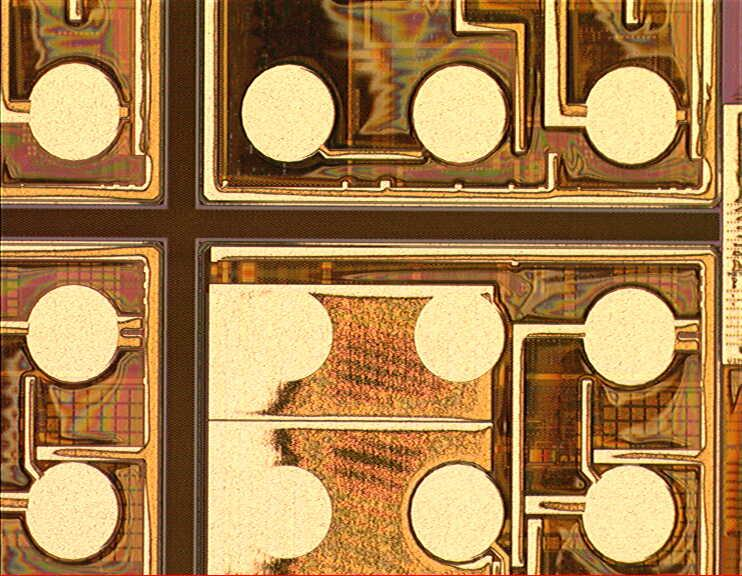COATING BAD: (1, 1, 722, 576)
